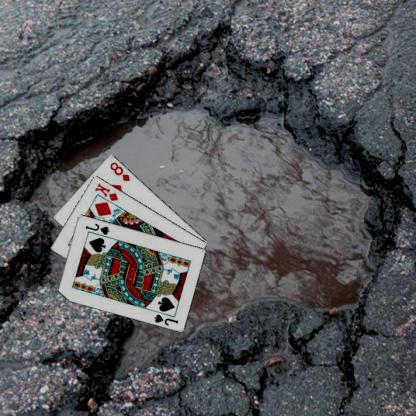8D: (109, 159, 133, 182)
JS: (153, 311, 181, 326), (85, 221, 112, 235)
KD: (94, 181, 121, 202)
